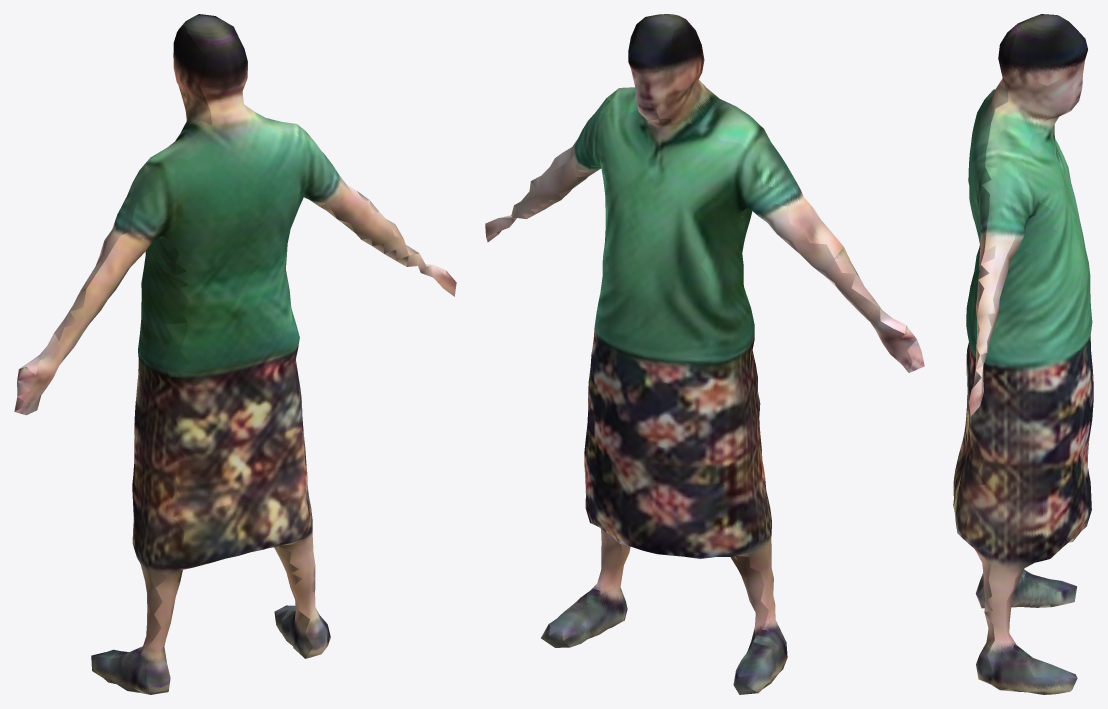
3 renders of one model, left to right at view 1: azimuth 30°, elevation 25°; view 2: azimuth 150°, elevation 25°; view 3: azimuth 270°, elevation 25°, orthographic. The views are drawn at different scales.
Parts seen in each view (by area): view 1: world; view 2: world; view 3: world.
Boxes of the visible parts, bbox=[...] form: world: bbox=[14, 14, 456, 694]; world: bbox=[485, 14, 924, 694]; world: bbox=[953, 14, 1093, 694].
Size of the model in its own units: 0.7229 by 1.01 by 0.2035.
1 material, 1 textured.
